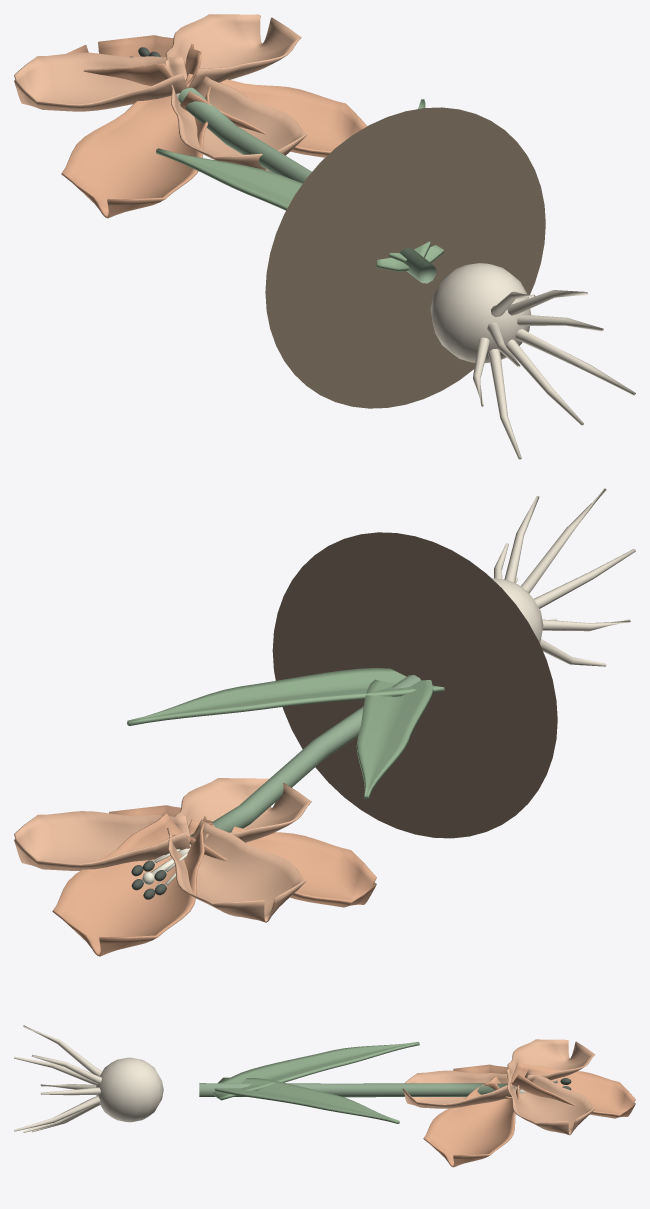
The model's file is tulip.glb.
3 views of the same model, one above another, from view 1: azimuth 30°, elevation 25°; view 2: azimuth 150°, elevation 25°; view 3: azimuth 270°, elevation 25° (orthographic). The views are drawn at different scales.
Parts seen in each view (by area): view 1: Part_Soil__soil, Part_Tepal__tepO1, Part_Tepal__tepI0, Part_Bulb__bulb, Part_Tepal__tepI2, Part_Tepal__tepI1, Part_Tepal__tepO2, Part_Stem__stem, Part_Leaf__blade0, Part_Tepal__tepO0, Part_Roots__rt7, Part_Roots__rt5 (+3 smaller); view 2: Part_Soil__soil, Part_Tepal__tepO0, Part_Tepal__tepI2, Part_Tepal__tepI0, Part_Leaf__blade1, Part_Tepal__tepO1, Part_Leaf__blade0, Part_Tepal__tepI1, Part_Stem__stem, Part_Bulb__bulb, Part_Roots__rt2, Part_Roots__rt3 (+2 smaller); view 3: Part_Tepal__tepO2, Part_Bulb__bulb, Part_Tepal__tepO0, Part_Leaf__blade0, Part_Tepal__tepI2, Part_Stem__stem, Part_Leaf__blade1, Part_Tepal__tepI0, Part_Tepal__tepI1, Part_Roots__rt7, Part_Roots__rt2, Part_Tepal__tepO1 (+3 smaller).
Part boxes in pixels (<box>): Part_Soil__soil: <box>265,107,545,408</box>; Part_Tepal__tepO1: <box>61,86,211,218</box>; Part_Tepal__tepI0: <box>14,52,187,111</box>; Part_Bulb__bulb: <box>430,263,531,363</box>; Part_Tepal__tepI2: <box>164,14,301,89</box>; Part_Tepal__tepI1: <box>171,76,306,171</box>; Part_Tepal__tepO2: <box>180,73,366,157</box>; Part_Stem__stem: <box>178,87,436,283</box>; Part_Leaf__blade0: <box>156,148,443,262</box>; Part_Tepal__tepO0: <box>67,35,201,87</box>; Part_Roots__rt7: <box>515,329,635,395</box>; Part_Roots__rt5: <box>488,349,521,459</box>; Part_Soil__soil: <box>272,532,557,838</box>; Part_Tepal__tepO0: <box>52,813,204,956</box>; Part_Tepal__tepI2: <box>14,811,190,870</box>; Part_Tepal__tepI0: <box>167,819,306,922</box>; Part_Leaf__blade1: <box>127,668,444,725</box>; Part_Tepal__tepO1: <box>188,819,376,907</box>; Part_Leaf__blade0: <box>356,679,433,799</box>; Part_Tepal__tepI1: <box>175,778,311,842</box>; Part_Stem__stem: <box>190,675,420,836</box>; Part_Bulb__bulb: <box>492,578,543,643</box>; Part_Roots__rt2: <box>520,488,606,593</box>; Part_Roots__rt3: <box>534,549,635,608</box>; Part_Tepal__tepO2: <box>423,1076,520,1167</box>; Part_Bulb__bulb: <box>96,1057,163,1122</box>; Part_Tepal__tepO0: <box>511,1062,635,1118</box>; Part_Leaf__blade0: <box>213,1041,419,1100</box>; Part_Tepal__tepI2: <box>506,1069,594,1135</box>; Part_Stem__stem: <box>199,1083,507,1097</box>; Part_Leaf__blade1: <box>214,1077,399,1123</box>; Part_Tepal__tepI0: <box>506,1039,595,1089</box>; Part_Tepal__tepI1: <box>402,1070,513,1108</box>; Part_Roots__rt7: <box>14,1096,100,1131</box>; Part_Roots__rt2: <box>23,1025,102,1076</box>; Part_Tepal__tepO1: <box>453,1064,511,1098</box>.
Bounding box in the file's own units: 0.9395 × 0.9 × 2.67.
